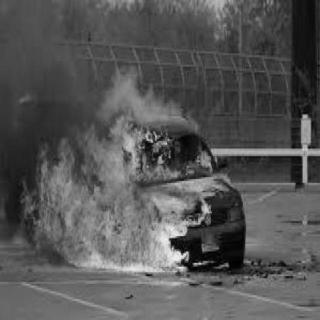Fire: (23, 120, 213, 272)
Smoke: (3, 11, 85, 129), (114, 69, 178, 123)
